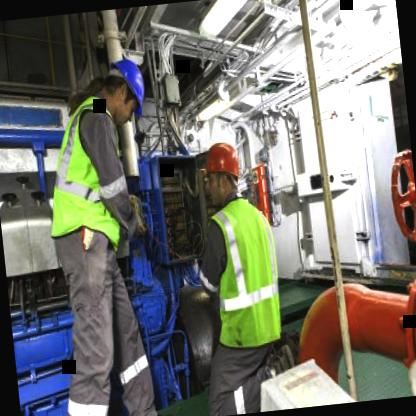helmet: (102, 48, 151, 128), (198, 134, 249, 208)
